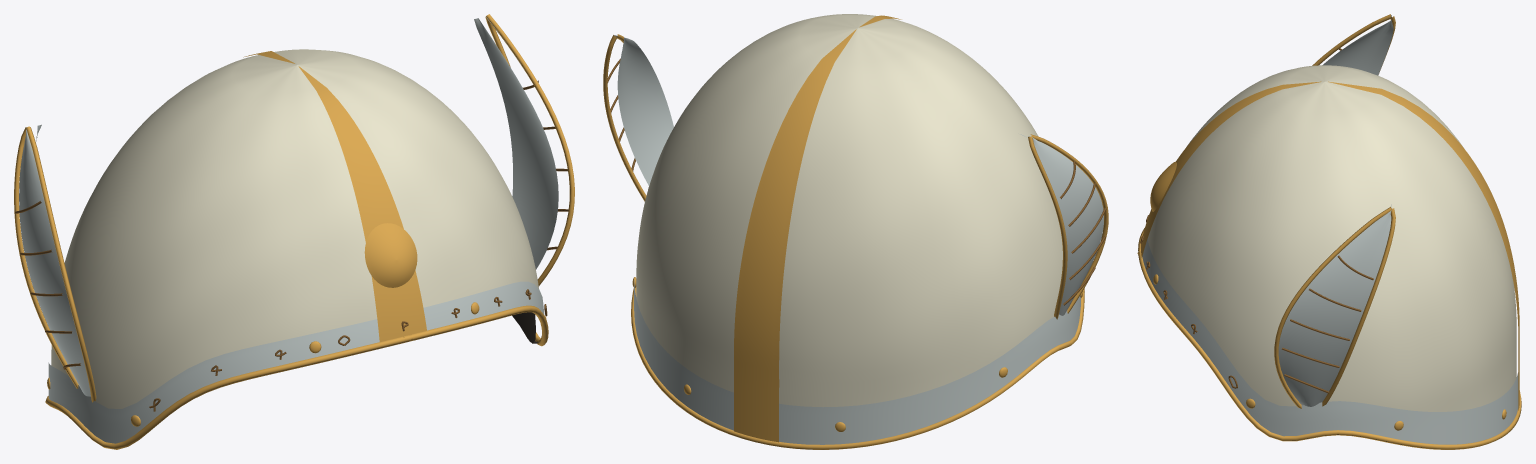
The model's file is dawnsteel_helm.glb.
3 views of the same model, side by side, from view 1: azimuth 30°, elevation 25°; view 2: azimuth 150°, elevation 25°; view 3: azimuth 270°, elevation 25° (orthographic). The views are drawn at different scales.
Parts seen in each view (by area): view 1: dawnsteel_helm: ivory enamel over dawnsteel, dawnsteel_helm: polished silver edges, dawnsteel_helm: warm gold filigree, dawnsteel_helm: inset antique gold; view 2: dawnsteel_helm: ivory enamel over dawnsteel, dawnsteel_helm: polished silver edges, dawnsteel_helm: warm gold filigree, dawnsteel_helm: inset antique gold; view 3: dawnsteel_helm: ivory enamel over dawnsteel, dawnsteel_helm: polished silver edges, dawnsteel_helm: warm gold filigree, dawnsteel_helm: inset antique gold.
Part boxes in pixels (<box>): dawnsteel_helm: ivory enamel over dawnsteel: <box>51,49,538,408</box>; dawnsteel_helm: polished silver edges: <box>19,16,558,443</box>; dawnsteel_helm: warm gold filigree: <box>14,14,574,449</box>; dawnsteel_helm: inset antique gold: <box>15,80,568,411</box>; dawnsteel_helm: ivory enamel over dawnsteel: <box>636,14,1062,407</box>; dawnsteel_helm: polished silver edges: <box>613,35,1103,444</box>; dawnsteel_helm: warm gold filigree: <box>603,15,1108,449</box>; dawnsteel_helm: inset antique gold: <box>607,58,1106,305</box>; dawnsteel_helm: ivory enamel over dawnsteel: <box>1147,65,1516,411</box>; dawnsteel_helm: polished silver edges: <box>1142,15,1518,444</box>; dawnsteel_helm: warm gold filigree: <box>1137,14,1521,449</box>; dawnsteel_helm: inset antique gold: <box>1140,48,1373,393</box>.
Bounding box in the file's own units: 0.6744 × 0.469 × 0.5041.
